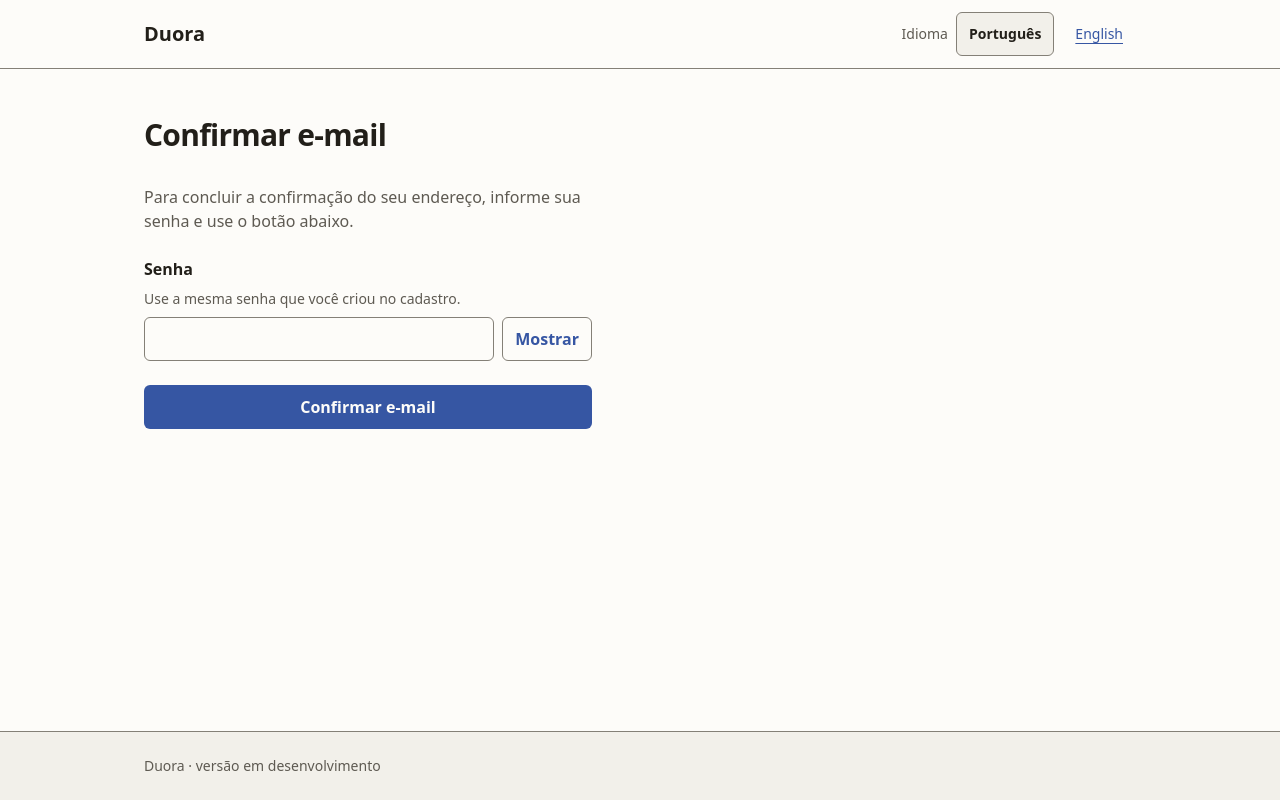
it: tela de confirmação de e-mail › INVALID_TOKEN (token ruim ou senha errada): mensagem neutra e caminho para cadastrar de novo
The image size is (1280, 800).
Click the password field labelled "Senha". click: (319,339)
box: [144, 317, 494, 361]
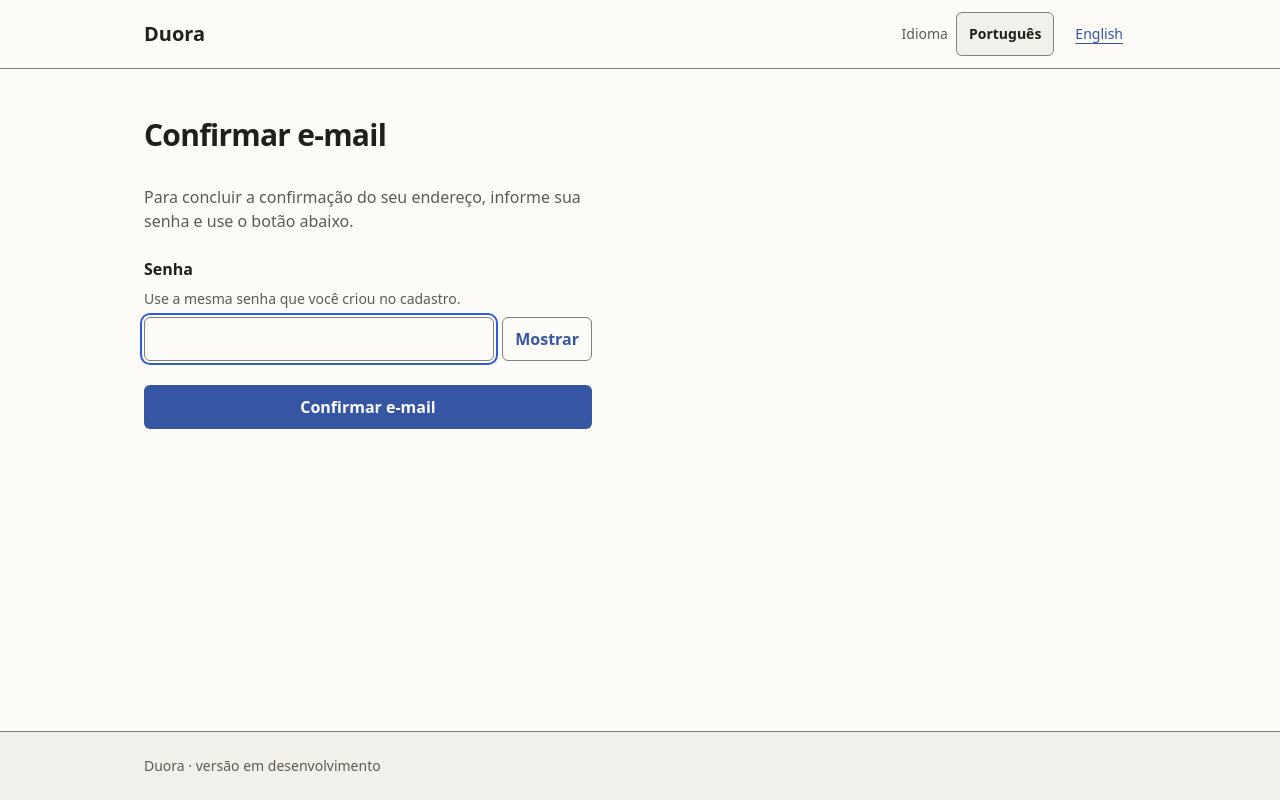
Type keys "senha errada qualquer"
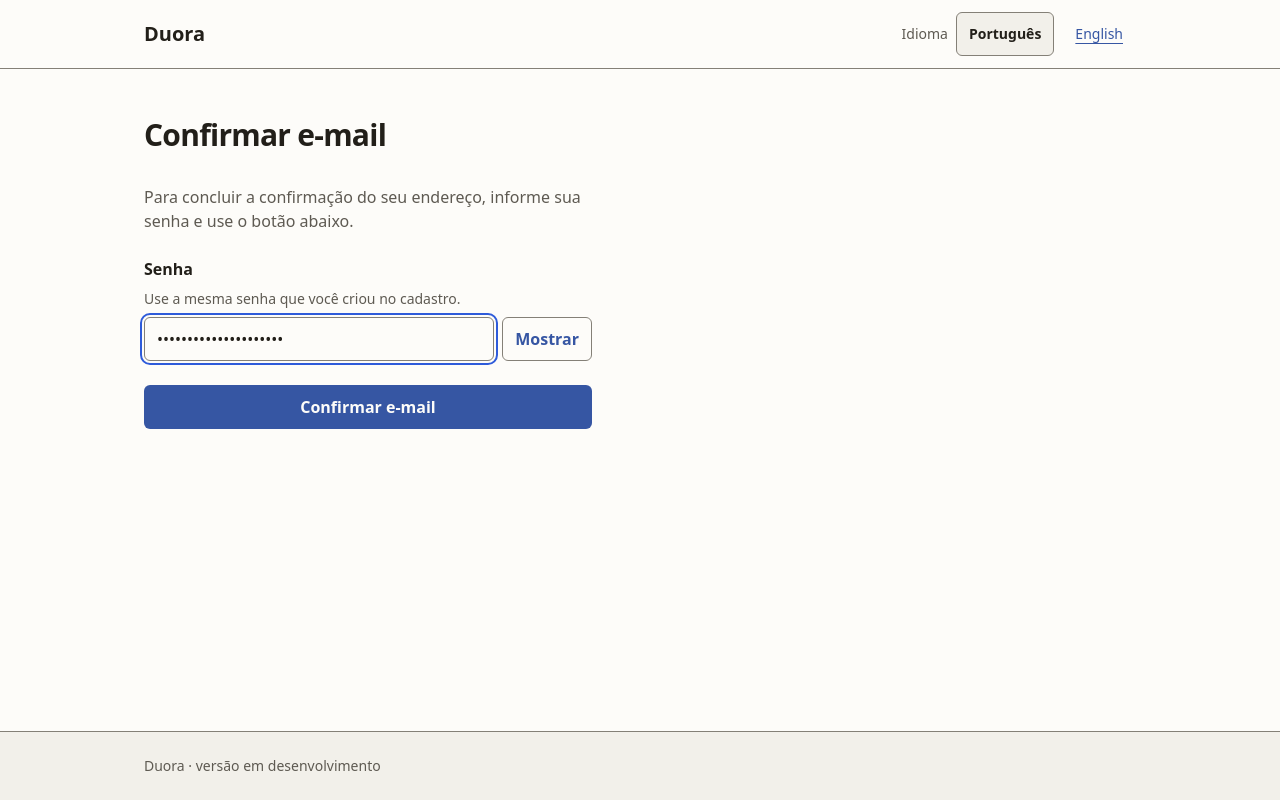
Click the button "Confirmar e-mail". click: (368,407)
box: [144, 385, 592, 429]
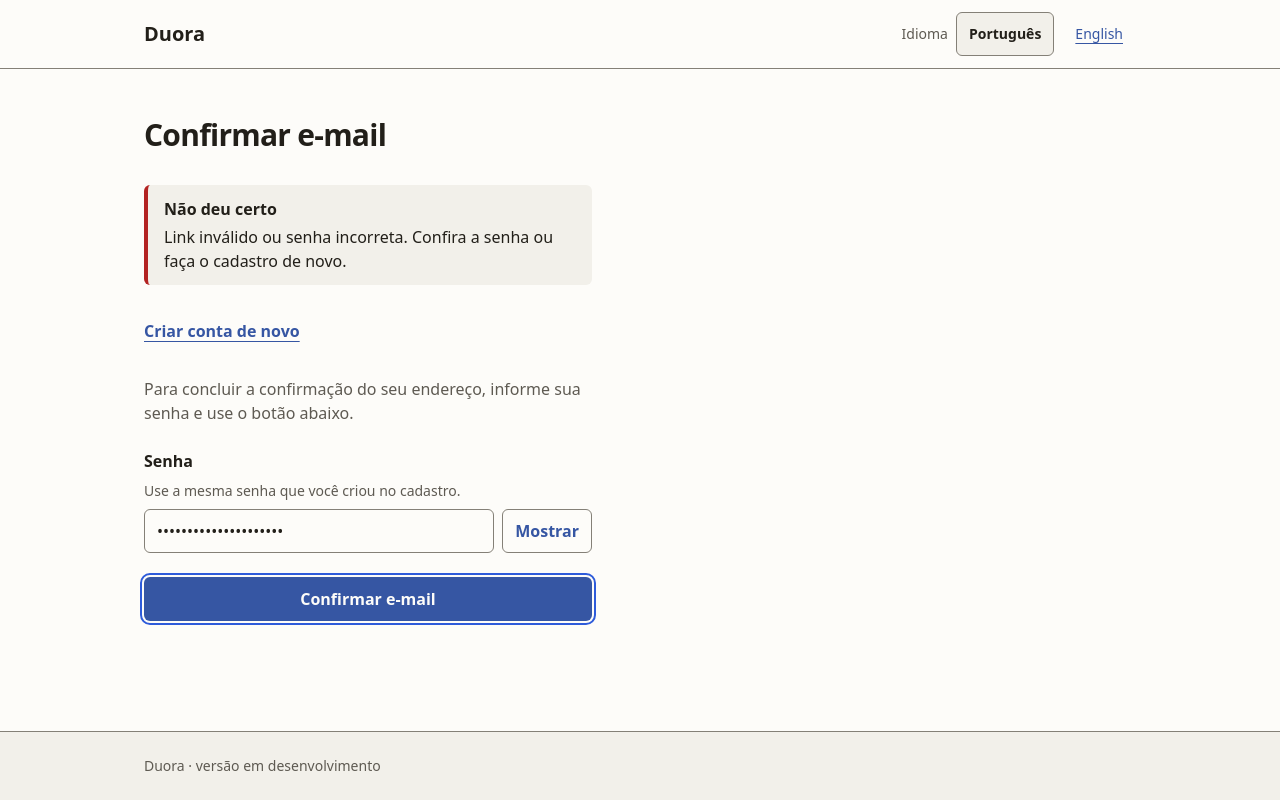
Check: the password field labelled "Senha" holds "senha errada qualquer", box [144, 509, 494, 553]
Check: the message shows "Link inválido ou senha incorreta.", box [164, 226, 553, 272]
